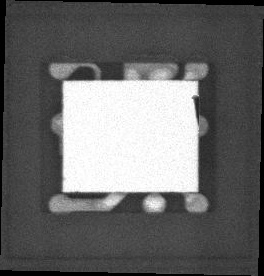DIE_BROKEN: (190, 94, 199, 124)
